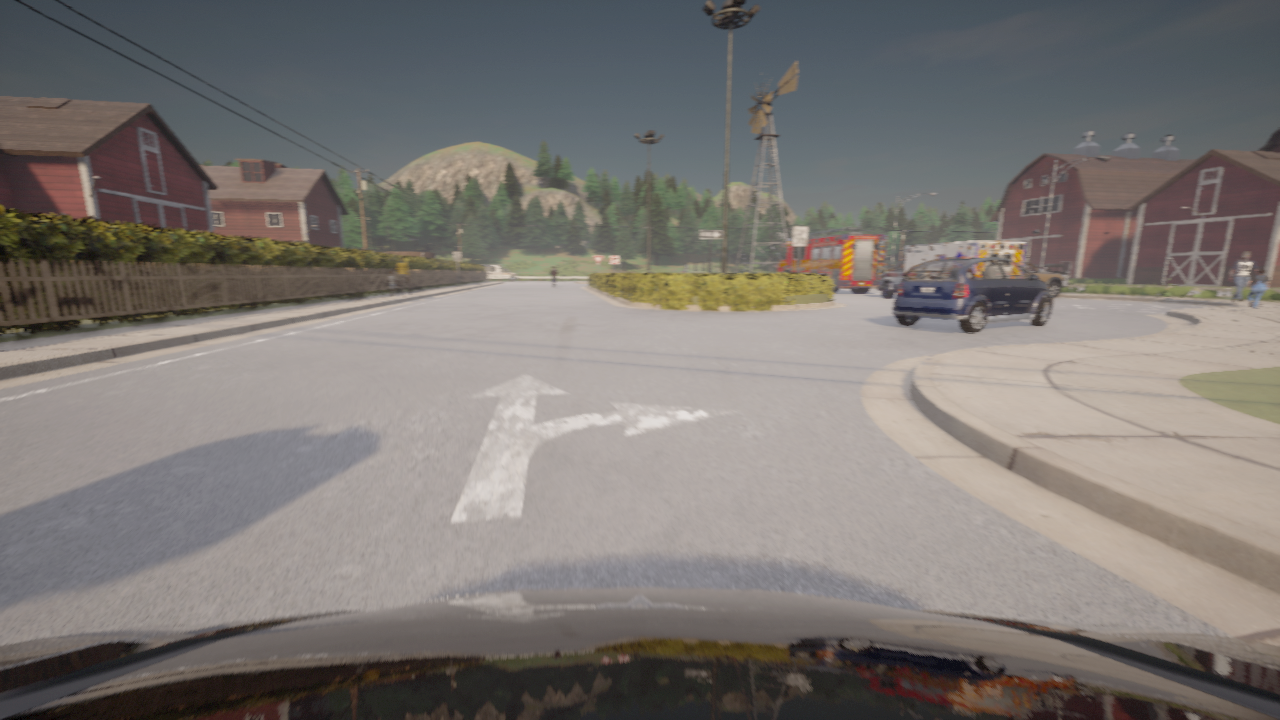cyclist: (0, 588, 1279, 719), (893, 257, 1052, 332), (878, 241, 1026, 297), (776, 226, 887, 292), (1024, 261, 1066, 297), (481, 264, 518, 281), (1035, 264, 1068, 283), (667, 270, 686, 272), (553, 278, 554, 286)
pedestrian: (1229, 252, 1257, 302), (1247, 269, 1269, 307), (395, 255, 411, 297), (388, 271, 397, 295)
